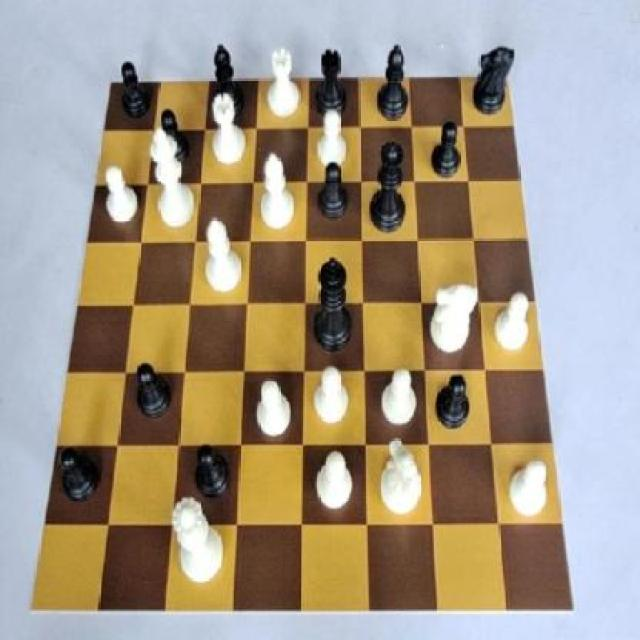bishop: (205, 39, 246, 136), (374, 40, 410, 126)
black-bishop: (310, 255, 358, 358)
black-king: (471, 40, 518, 128)
black-knight: (52, 445, 104, 512), (420, 112, 469, 182), (154, 104, 198, 178), (189, 436, 233, 510), (432, 365, 476, 437), (129, 351, 170, 427), (311, 158, 353, 228), (117, 54, 155, 127)
black-pawn: (369, 140, 413, 240)
black-queen: (314, 37, 351, 120)
black-rook: (200, 213, 251, 304), (257, 151, 298, 235)
white-bishop: (142, 119, 198, 238)
white-king: (374, 435, 428, 521), (431, 279, 482, 366)
white-knight: (504, 449, 552, 520), (308, 363, 354, 437), (311, 443, 357, 514), (250, 372, 296, 442), (375, 365, 421, 430), (494, 288, 534, 360), (103, 163, 143, 234), (312, 108, 351, 180)
white-pawn: (168, 488, 227, 592)
white-queen: (258, 39, 304, 124), (206, 88, 249, 174)
